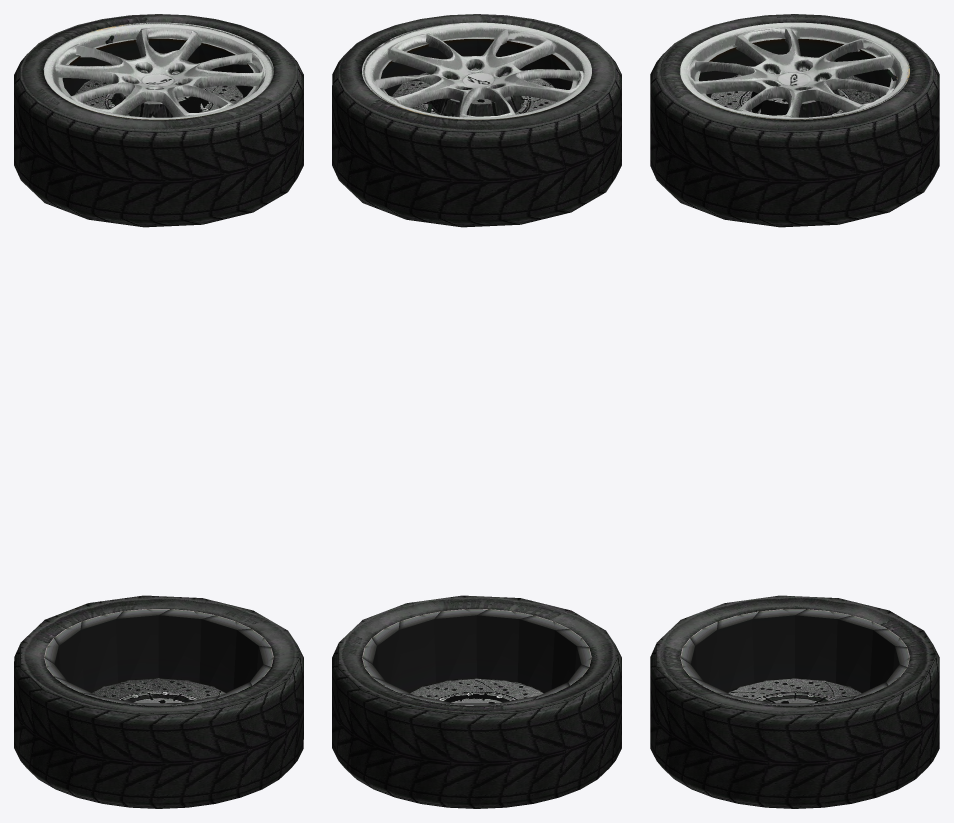
Rendered from front_wheels2.obj.
3 views of the same model, side by side, from view 1: azimuth 30°, elevation 25°; view 2: azimuth 150°, elevation 25°; view 3: azimuth 270°, elevation 25° (orthographic).
Visible parts, largest first — view 1: tyre.002_tyre.004, tyre.001; view 2: tyre.001, tyre.002_tyre.004; view 3: tyre.001, tyre.002_tyre.004.
Part boxes in pixels (<box>): tyre.002_tyre.004: <box>14,595,303,808</box>; tyre.001: <box>14,14,303,227</box>; tyre.001: <box>332,14,621,227</box>; tyre.002_tyre.004: <box>332,595,621,808</box>; tyre.001: <box>650,14,939,227</box>; tyre.002_tyre.004: <box>650,595,939,808</box>.
Bounding box in the file's own units: 2.79 × 7.22 × 2.77.
